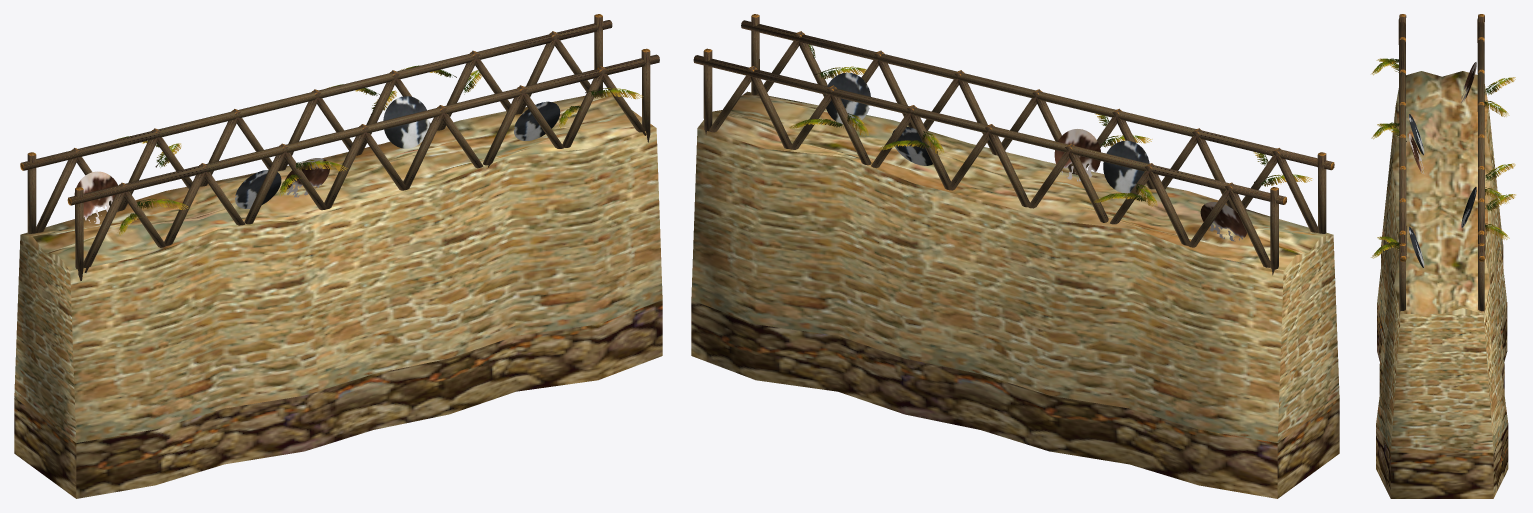
Rendered from wall_long.dae.
3 views of the same model, side by side, from view 1: azimuth 30°, elevation 25°; view 2: azimuth 150°, elevation 25°; view 3: azimuth 270°, elevation 25° (orthographic). The views are drawn at different scales.
Visible parts, largest first — view 1: wall_long; view 2: wall_long; view 3: wall_long.
Boxes of the visible parts, x1,y1,x2,y2 form: wall_long: (14,14,662,498); wall_long: (691,14,1339,498); wall_long: (1371,14,1515,498).
Size of the model in its own units: 35.46 by 9.45 by 17.39.
